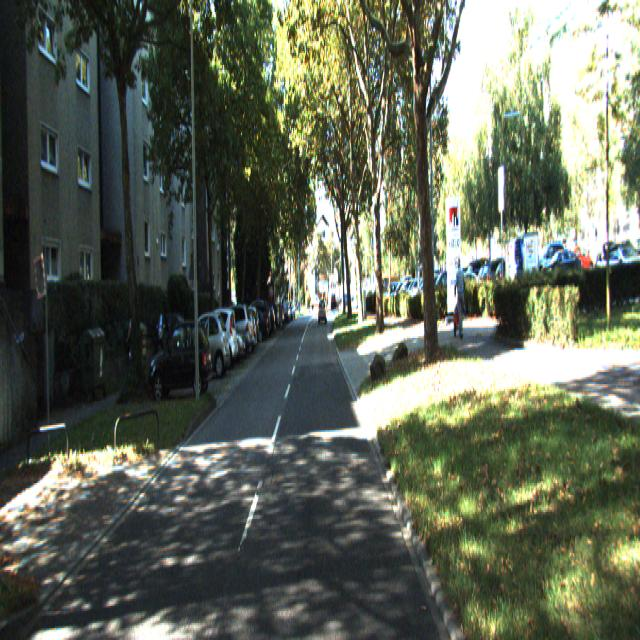Car: (148, 318, 214, 400), (180, 311, 232, 384), (192, 310, 240, 374), (208, 300, 254, 360)
DontCare: (461, 242, 639, 281), (240, 286, 298, 349), (372, 260, 449, 304), (123, 306, 144, 373), (452, 256, 467, 347), (317, 284, 340, 331)
